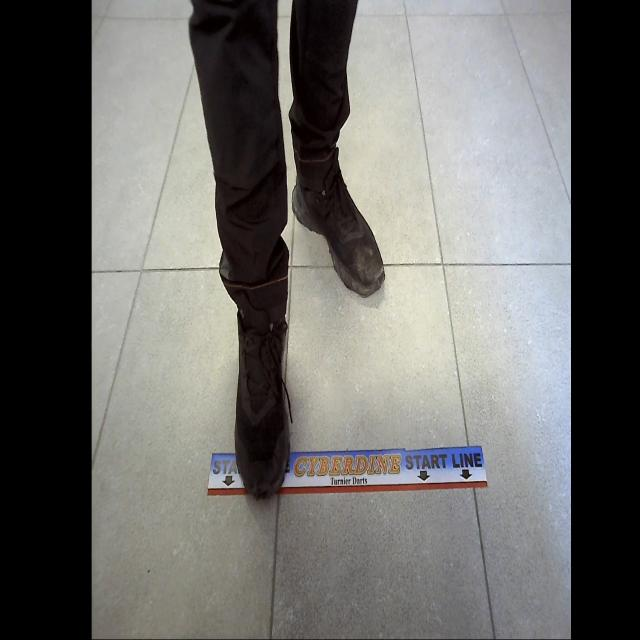foot: (291, 158, 385, 298), (234, 309, 291, 500)
